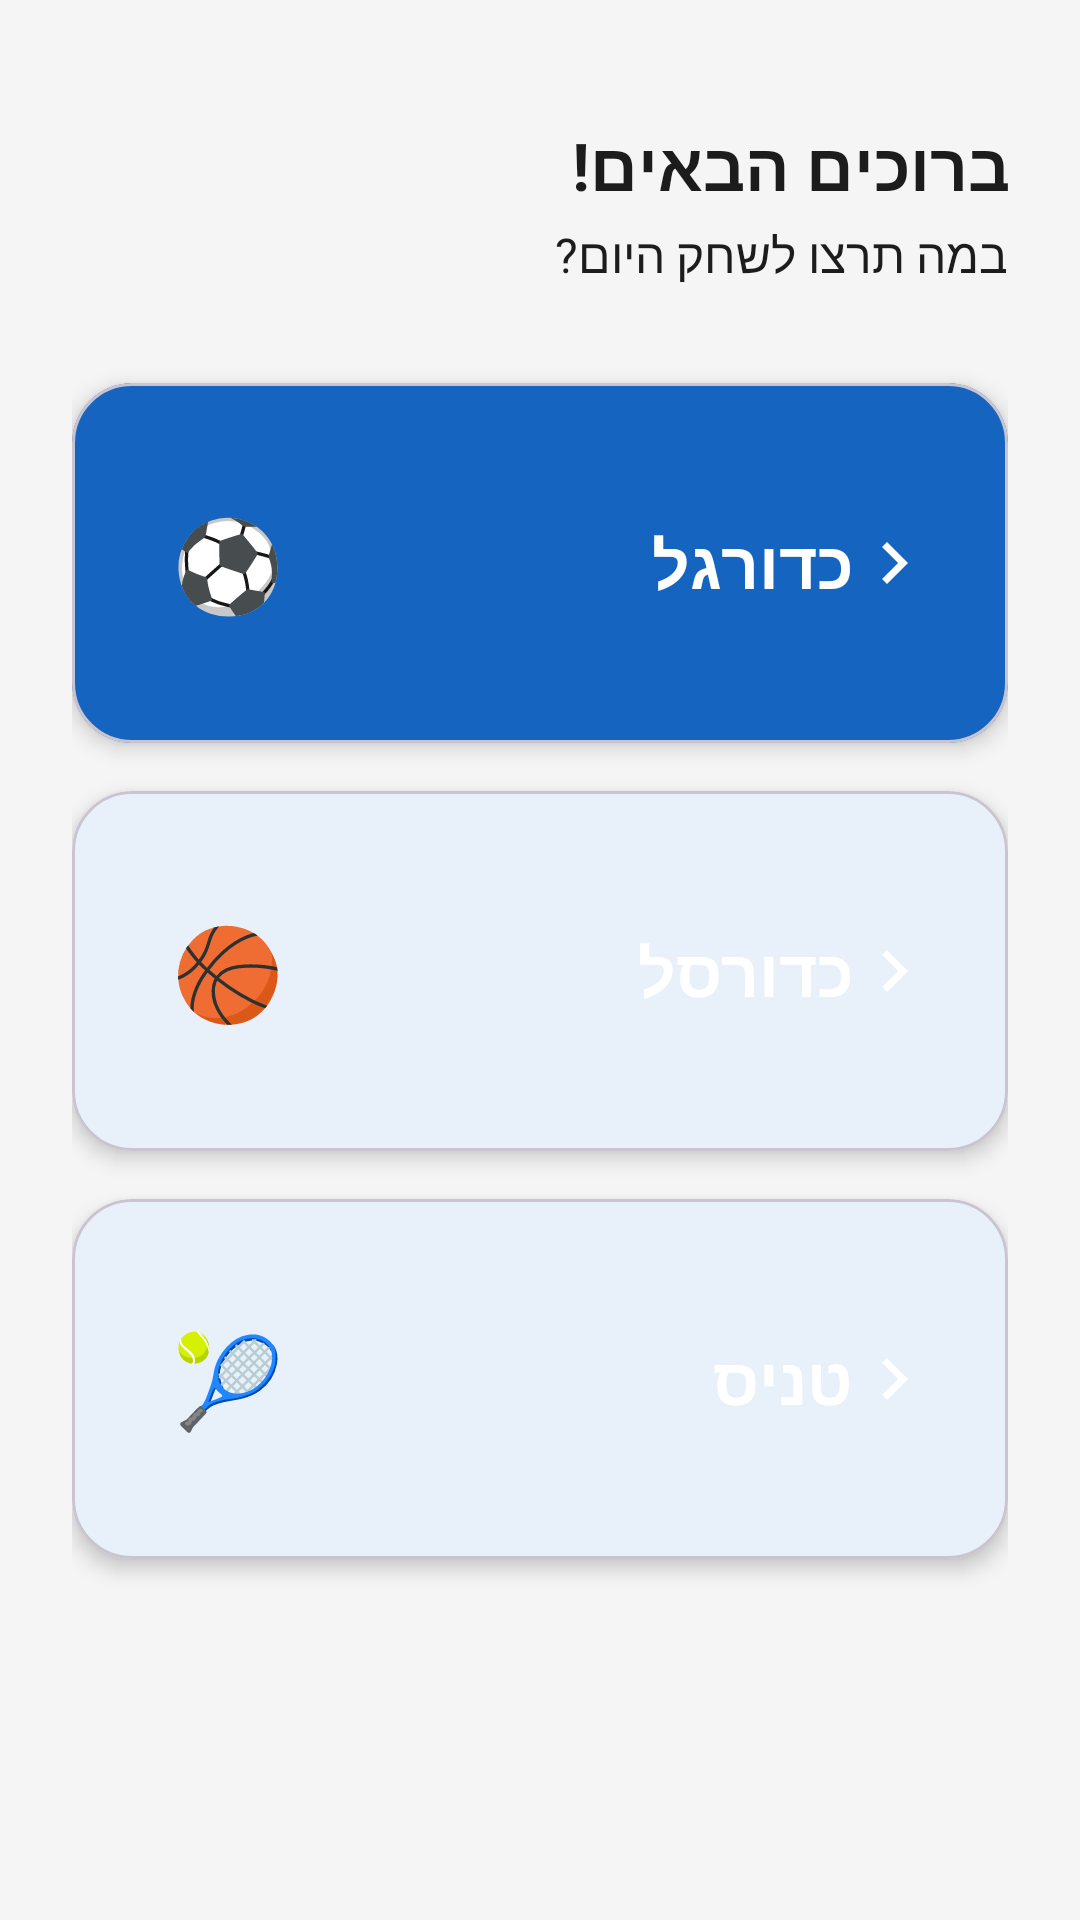

Screen size 1080 × 1920. Icon name, then its center in pixels as (x=x, y=y):
chevron forward: (x=895, y=563)
